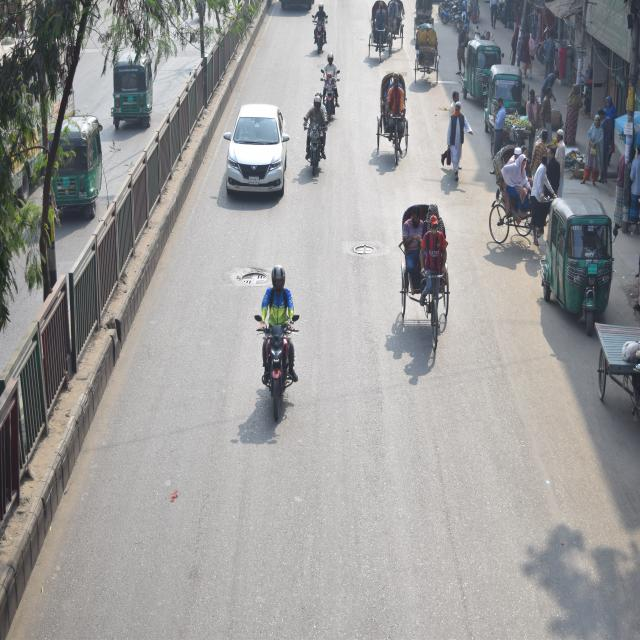car: (220, 101, 288, 203)
motorbike: (259, 310, 299, 423), (295, 100, 327, 196), (321, 75, 338, 127), (312, 11, 330, 60)
